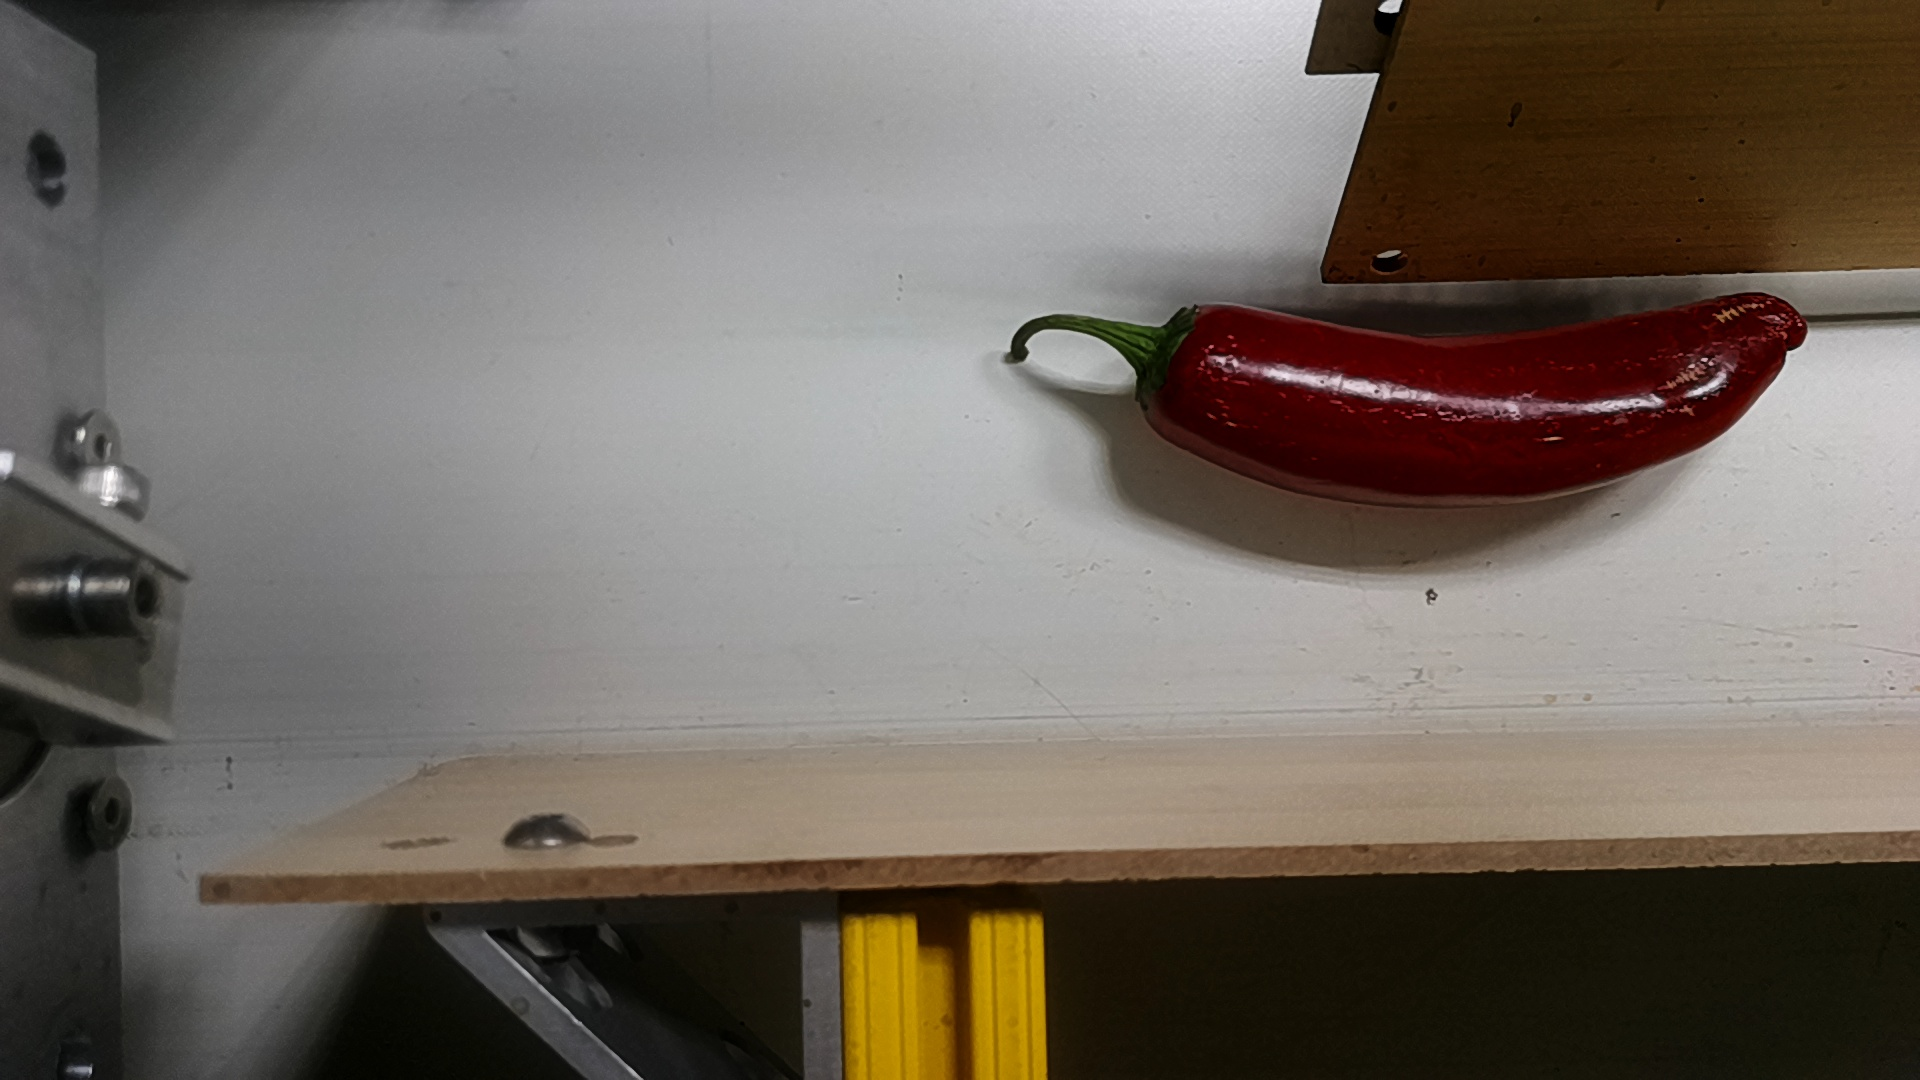Cut Point: (1110, 287, 1240, 444)
